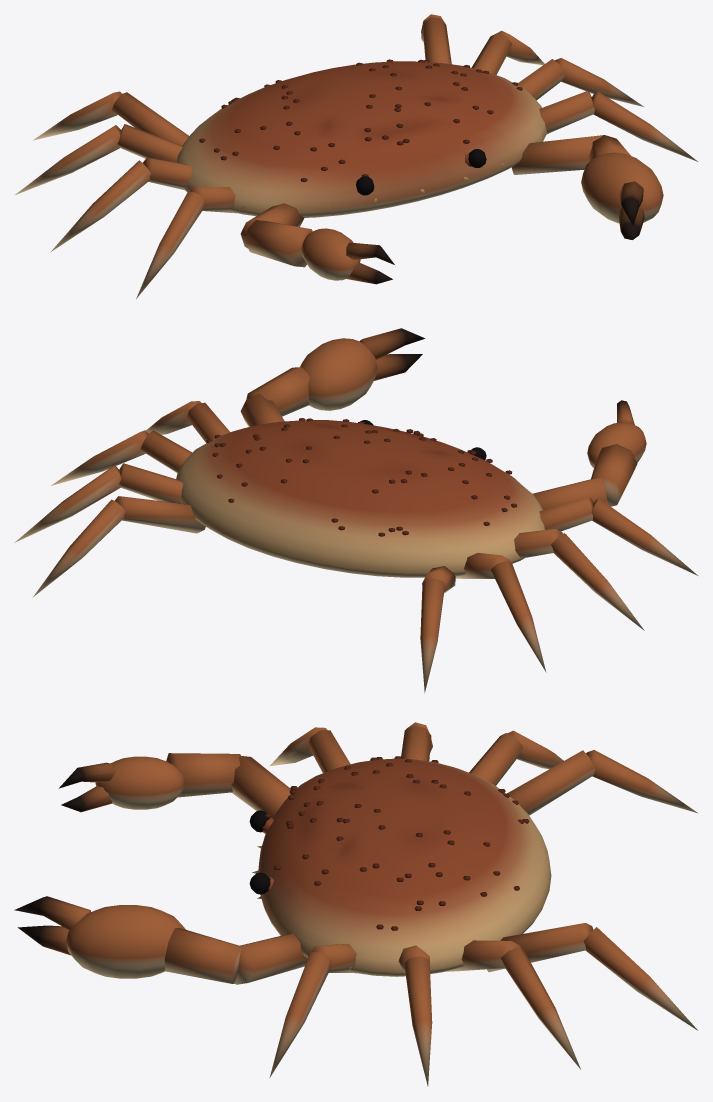
Rendered from HarpactocarcinusPunctulatus.fbx.
3 renders of one model, top to bottom at view 1: azimuth 30°, elevation 25°; view 2: azimuth 150°, elevation 25°; view 3: azimuth 270°, elevation 25°, orthographic. The views are drawn at different scales.
Parts seen in each view (by area): view 1: HarpactocarcinusPunctulatus; view 2: HarpactocarcinusPunctulatus; view 3: HarpactocarcinusPunctulatus.
Part boxes in pixels (x1,y1,x2,y2): HarpactocarcinusPunctulatus: (14, 14, 697, 298); HarpactocarcinusPunctulatus: (14, 328, 697, 693); HarpactocarcinusPunctulatus: (14, 722, 697, 1086).
Size of the model in its own units: 2.12 by 0.3444 by 1.86.
